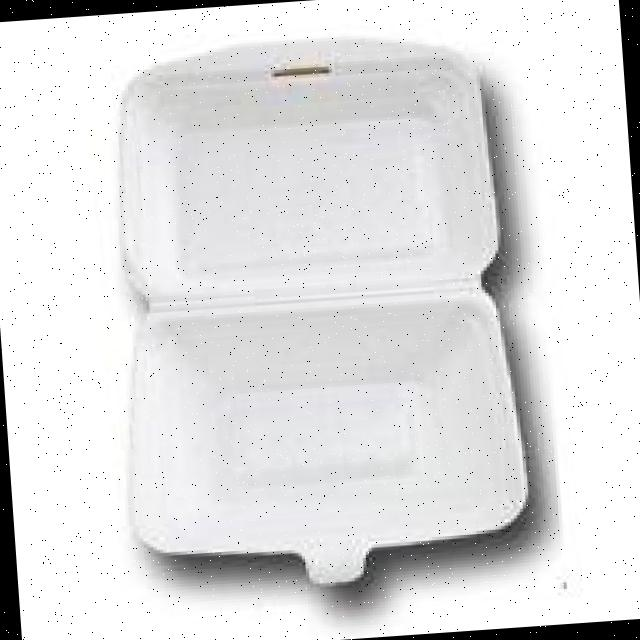styrofoam: (92, 19, 536, 600)
